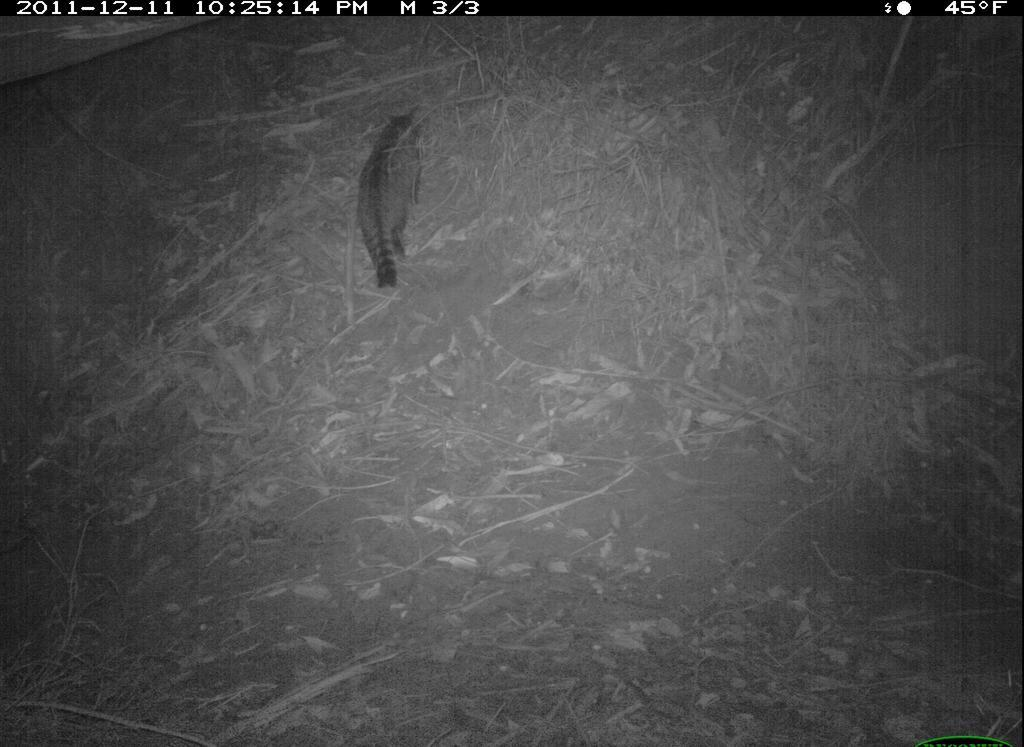cat: (350, 103, 438, 296)
